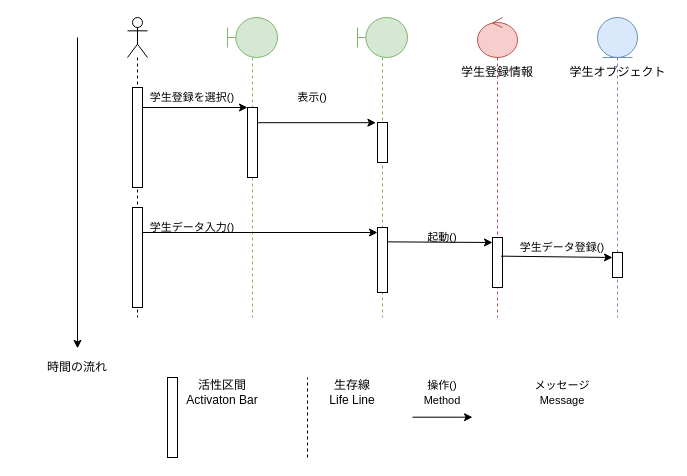
The diagram is 687 pixels wide and 476 high, and some of its shapes have lost their labels. The centre of each missing label's shape, as x and y in pixels:
"メニュー画面" belongs at [252,167].
"学生登録画面" belongs at [382,167].
